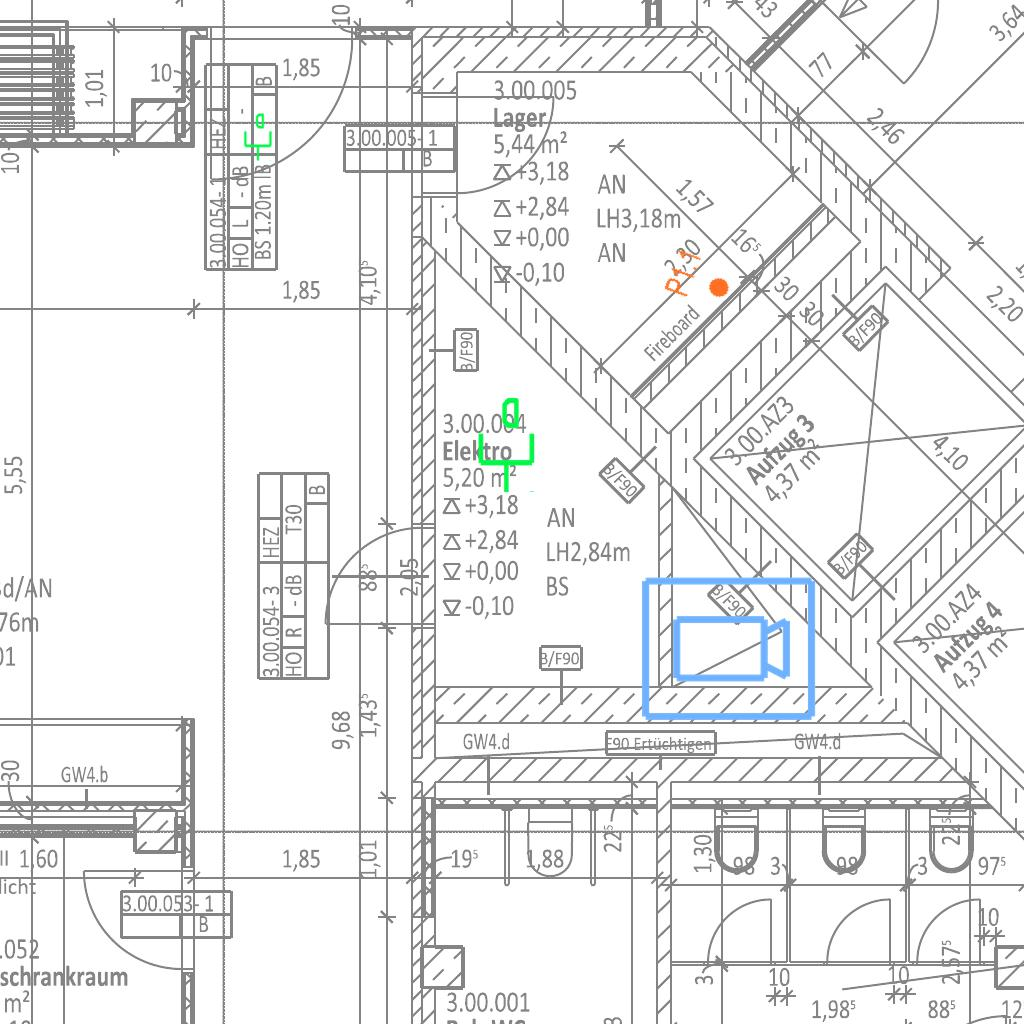Datenanschluss_einfach: (470, 395, 539, 495), (240, 112, 274, 162)
Downlight_LED_Einbauleuchten_Flur: (662, 246, 738, 312)
KFO_Kamera_mit_Festobjektiv: (637, 573, 819, 727)
